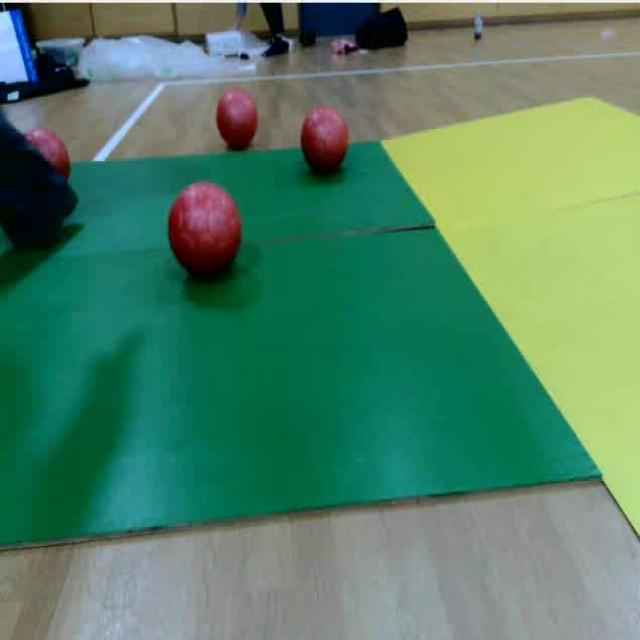red_ball: (166, 176, 249, 290), (17, 124, 74, 213), (298, 108, 354, 178), (214, 85, 262, 155)
